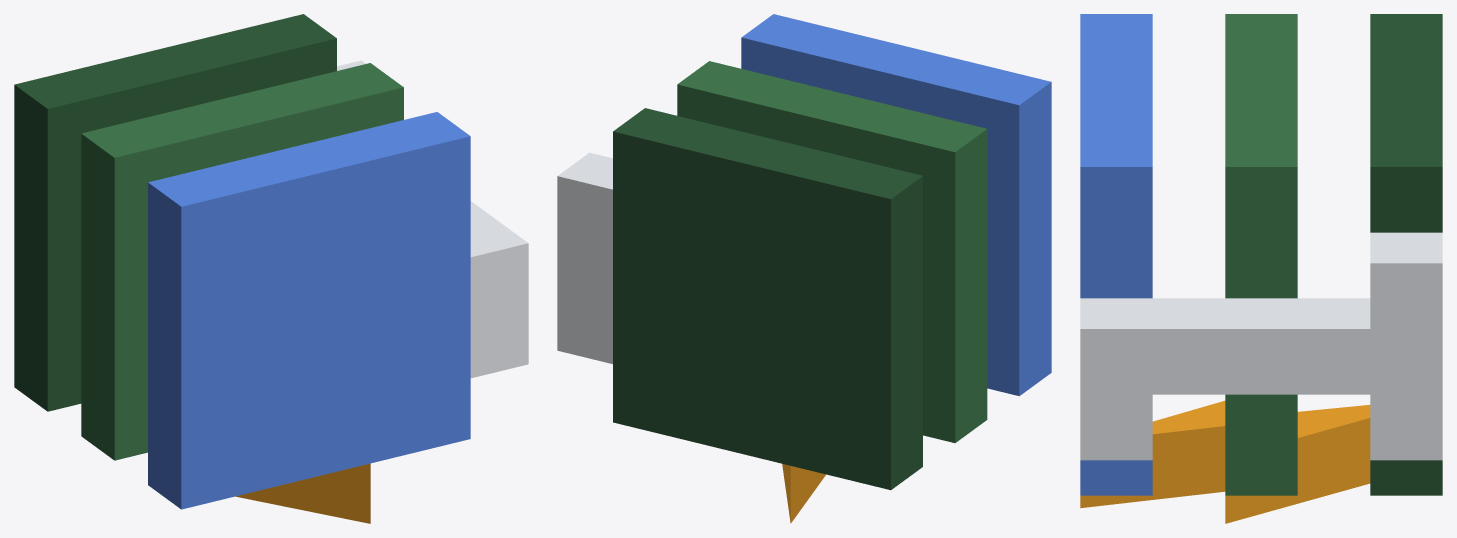
File: instant-launcher.obj
3 renders of one model, left to right at view 1: azimuth 30°, elevation 25°; view 2: azimuth 150°, elevation 25°; view 3: azimuth 270°, elevation 25°, orthographic. The views are drawn at different scales.
Parts seen in each view (by area): view 1: slab_top, slab_bottom, slab_middle, letter_l, bolt; view 2: slab_bottom, slab_top, slab_middle, letter_l, bolt; view 3: letter_l, slab_middle, slab_top, slab_bottom, bolt.
Part boxes in pixels (<box>): slab_top: <box>148,112,470,509</box>; slab_bottom: <box>14,14,336,411</box>; slab_middle: <box>81,63,403,460</box>; letter_l: <box>337,60,528,378</box>; bolt: <box>235,463,370,523</box>; slab_bottom: <box>613,108,922,490</box>; slab_top: <box>741,14,1051,396</box>; slab_middle: <box>677,61,987,442</box>; letter_l: <box>557,152,612,363</box>; bolt: <box>782,463,825,523</box>; letter_l: <box>1080,232,1442,460</box>; slab_middle: <box>1225,14,1297,495</box>; slab_top: <box>1080,14,1152,495</box>; slab_bottom: <box>1370,14,1442,495</box>; bolt: <box>1080,400,1370,523</box>.
Bounding box in the file's own units: 1.8 × 1.8 × 1.5.
